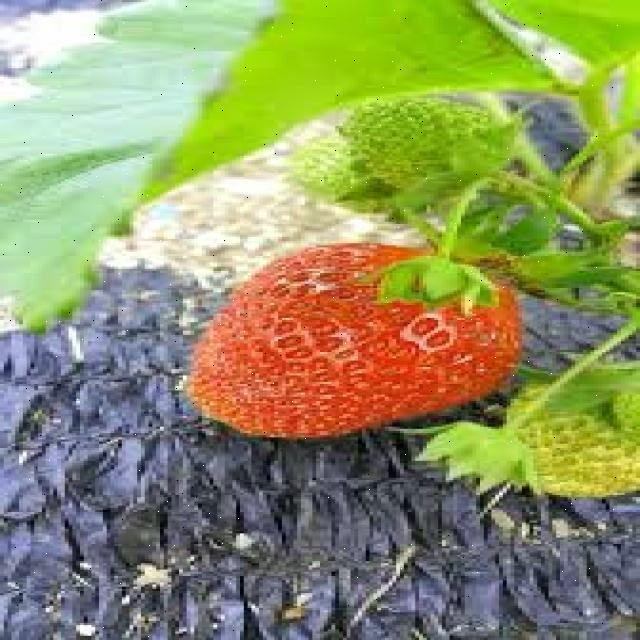ripe: (187, 240, 524, 438)
unripe: (507, 364, 640, 498), (344, 95, 507, 201)
